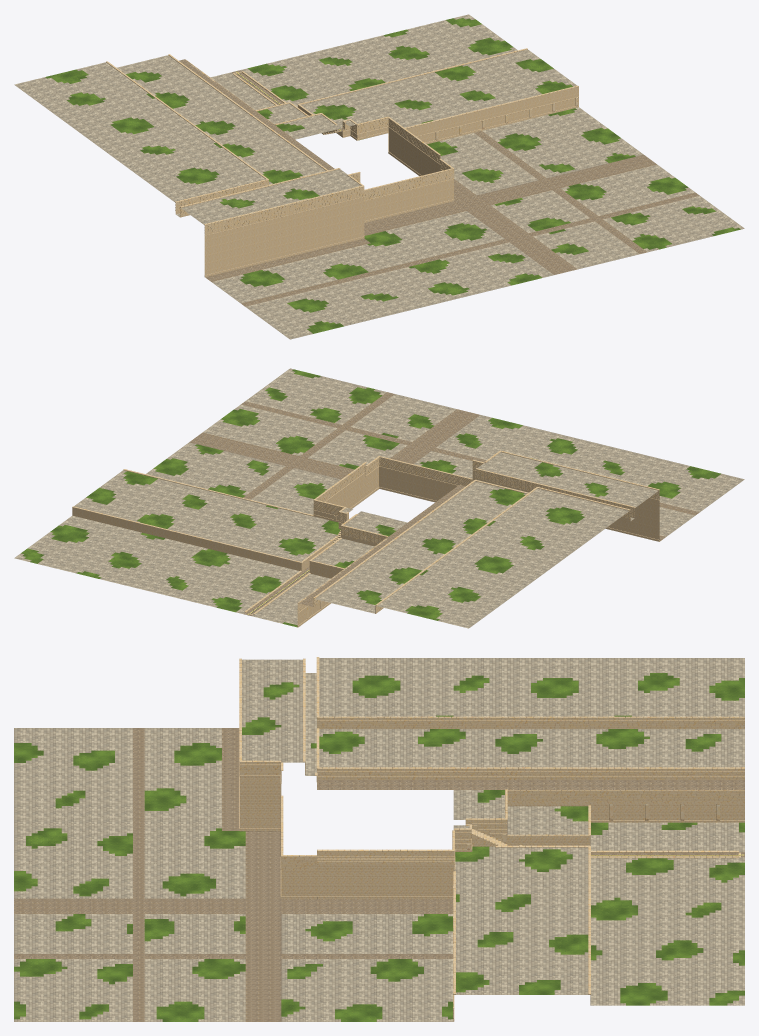
3 views of the same model, one above another, from view 1: azimuth 30°, elevation 25°; view 2: azimuth 150°, elevation 25°; view 3: azimuth 270°, elevation 25° (orthographic). The views are drawn at different scales.
Parts seen in each view (by area): view 1: ground_flags, seaside_stone, ground_grass, ground_cobbles; view 2: ground_flags, ground_grass, seaside_stone, ground_cobbles; view 3: ground_flags, seaside_stone, ground_grass, ground_cobbles.
Boxes of the visible parts, x1,y1,x2,y2 form: ground_flags: (14, 14, 744, 339); seaside_stone: (106, 48, 578, 277); ground_grass: (45, 18, 740, 333); ground_cobbles: (179, 59, 699, 306); ground_flags: (14, 368, 744, 628); ground_grass: (21, 369, 720, 627); seaside_stone: (72, 450, 659, 627); ground_cobbles: (189, 392, 699, 615); ground_flags: (14, 658, 744, 1021); seaside_stone: (239, 657, 744, 1021); ground_grass: (14, 673, 744, 1021); ground_cobbles: (14, 728, 744, 1021).
Size of the model in its own units: 117 by 13.16 by 123.
7 materials, 4 textured.
